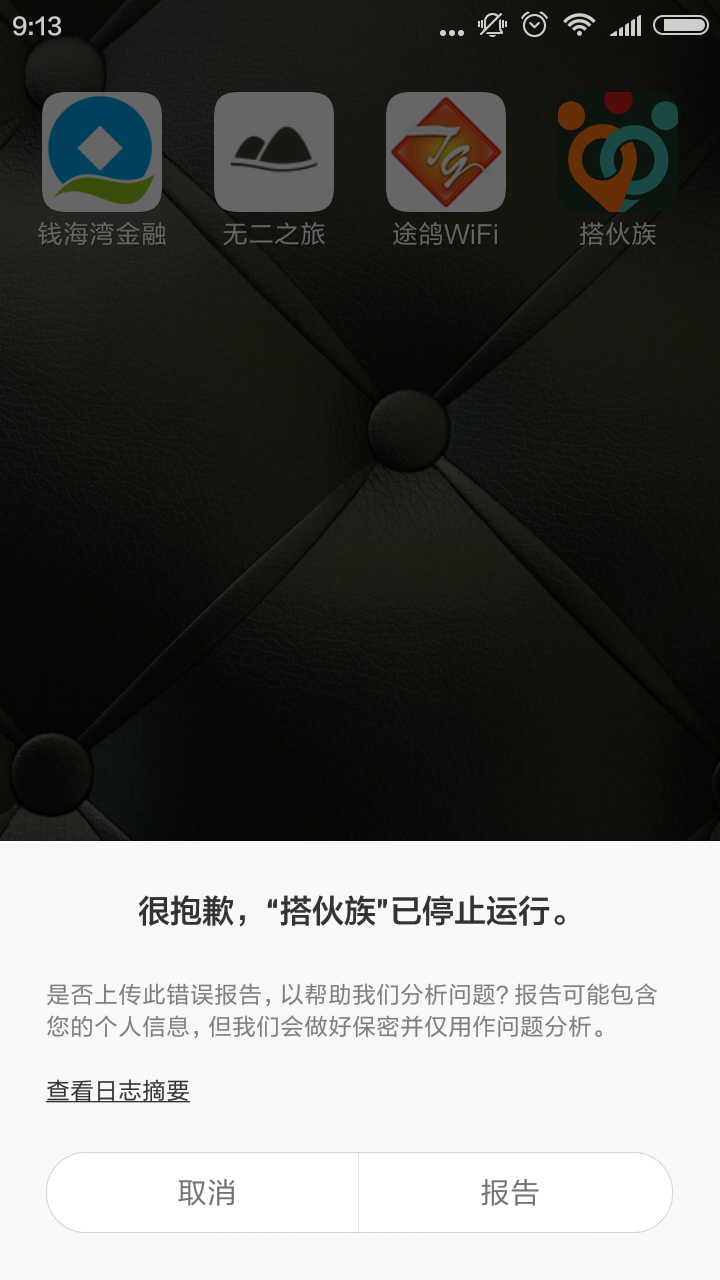alert: (6, 828, 715, 1280)
button: (40, 1141, 692, 1242)
